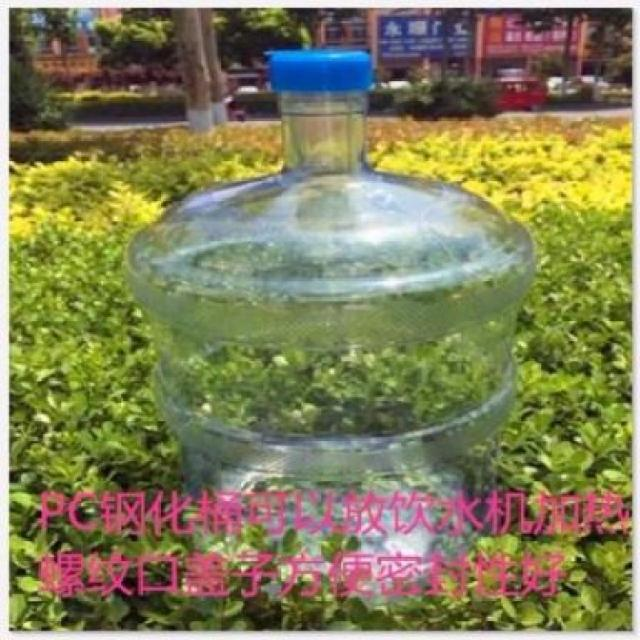coolerbottle: (123, 38, 532, 600)
